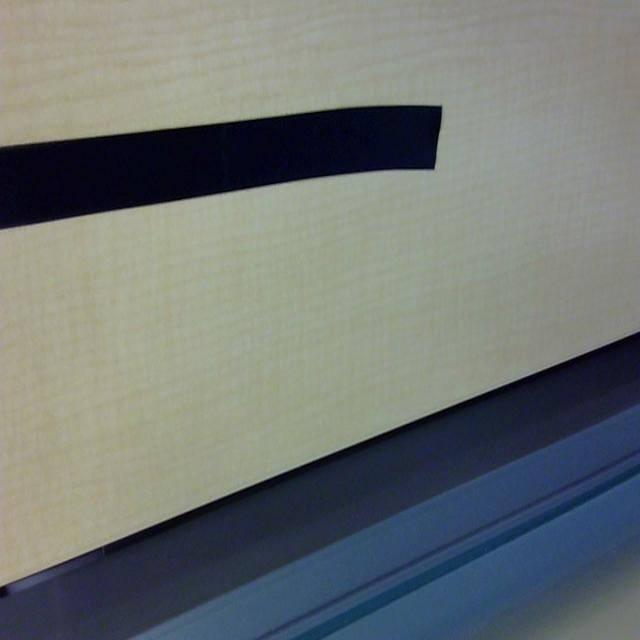tape: (0, 84, 462, 248)
